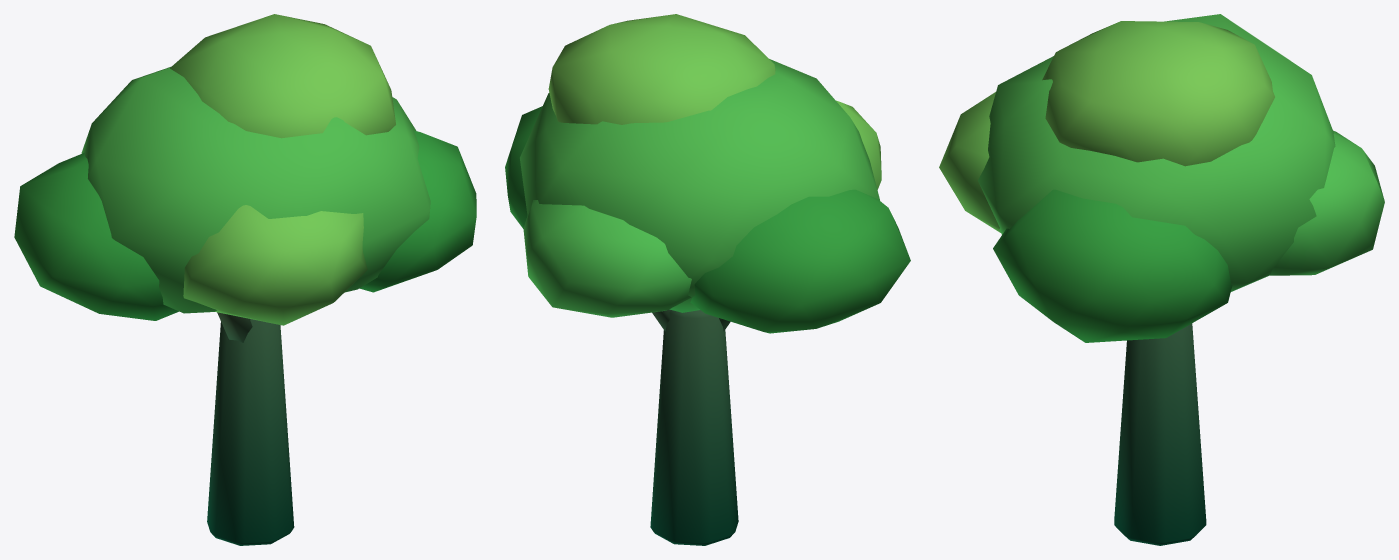
Rendered from tree_c.glb.
The picture shows the model from 3 angles, left to right: view 1: azimuth 30°, elevation 25°; view 2: azimuth 150°, elevation 25°; view 3: azimuth 270°, elevation 25°; orthographic projection. The views are drawn at different scales.
Visible parts, largest first — view 1: tree_c; view 2: tree_c; view 3: tree_c.
Part boxes in pixels (box(x1,y1,x2,y2)): tree_c: box(14, 14, 476, 545); tree_c: box(505, 14, 910, 545); tree_c: box(939, 14, 1384, 545).
Size of the model in its own units: 2.59 by 3.04 by 2.39.
